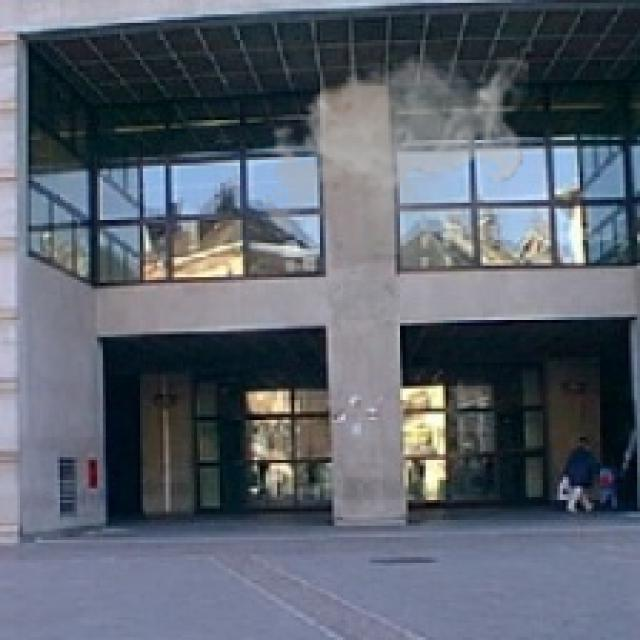smoke: (254, 46, 529, 254)
